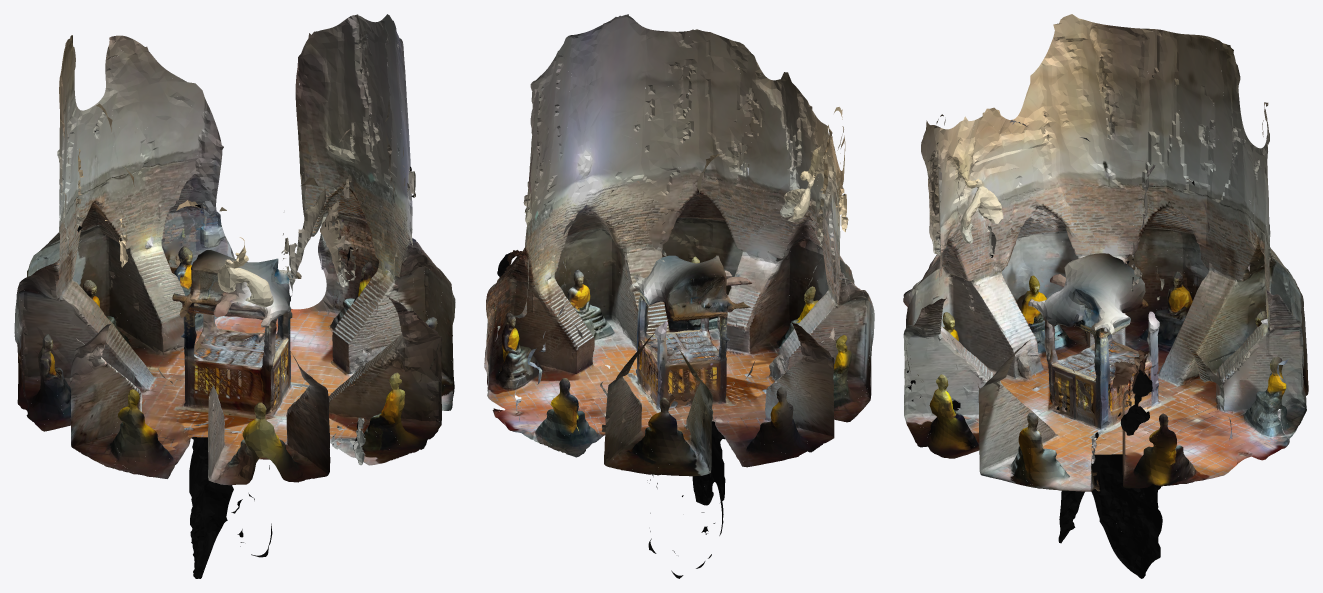
The picture shows the model from 3 angles, left to right: view 1: azimuth 30°, elevation 25°; view 2: azimuth 150°, elevation 25°; view 3: azimuth 270°, elevation 25°; orthographic projection. The views are drawn at different scales.
Size of the model in its own units: 8.26 by 11.6 by 8.25.
4 materials, 4 textured.
